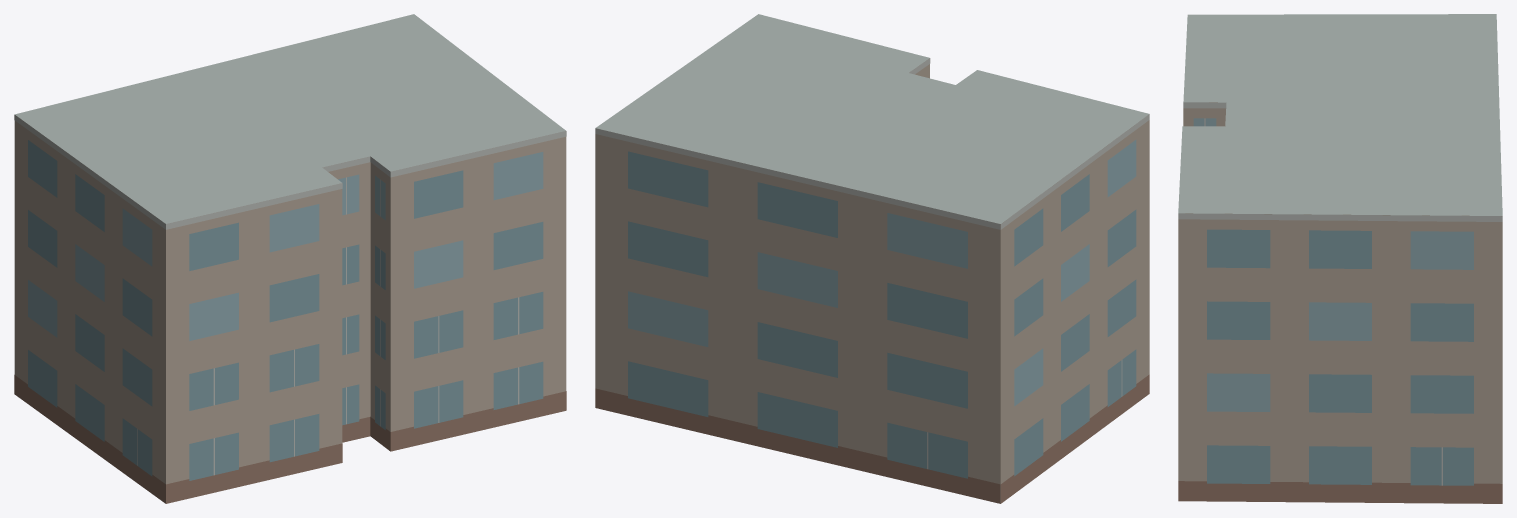
The model's file is survey-upis-32813397.glb.
The picture shows the model from 3 angles, left to right: view 1: azimuth 30°, elevation 25°; view 2: azimuth 150°, elevation 25°; view 3: azimuth 270°, elevation 25°; orthographic projection. The views are drawn at different scales.
Visible parts, largest first — view 1: survey-upis-32813397.tmp; view 2: survey-upis-32813397.tmp; view 3: survey-upis-32813397.tmp.
Boxes of the visible parts, x1,y1,x2,y2 form: survey-upis-32813397.tmp: (14, 14, 566, 503); survey-upis-32813397.tmp: (595, 14, 1149, 503); survey-upis-32813397.tmp: (1178, 14, 1502, 503).
Bounding box in the file's own units: 17.72 × 11.76 × 12.03.
